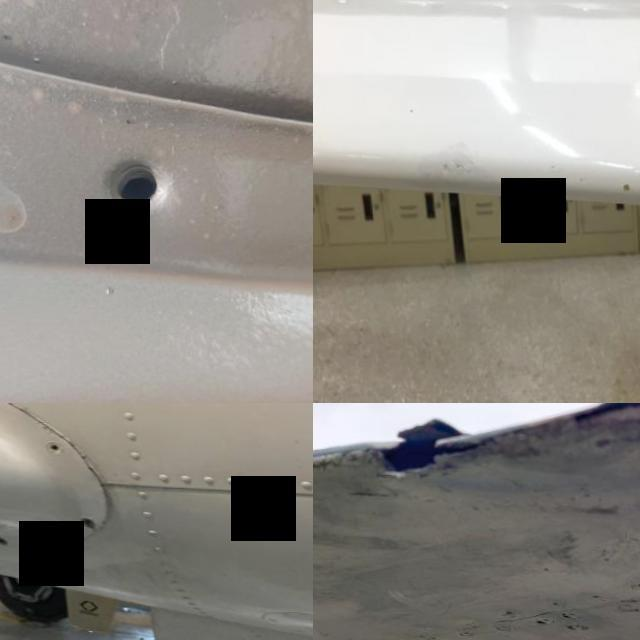Crack: (348, 403, 490, 491), (406, 137, 478, 190), (66, 434, 110, 490), (0, 403, 66, 432), (612, 168, 640, 205)
Missing_Fastener: (38, 96, 210, 260), (72, 514, 88, 528), (40, 440, 56, 452)
